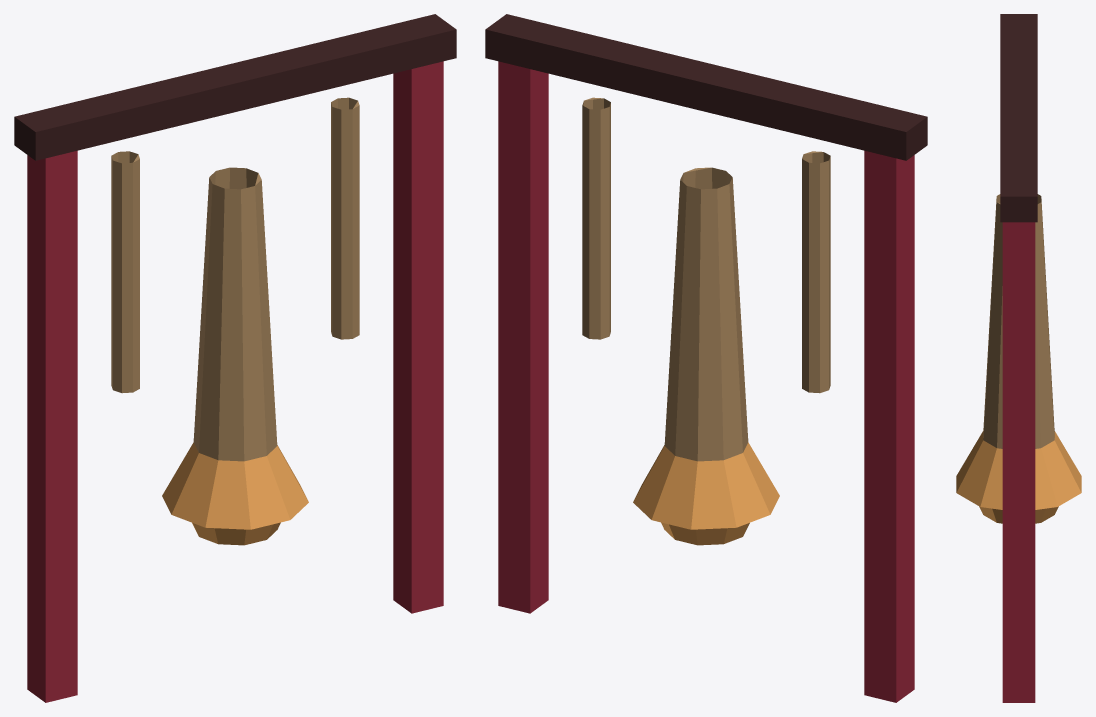
The model's file is shrine_rope_bell.obj.
3 views of the same model, side by side, from view 1: azimuth 30°, elevation 25°; view 2: azimuth 150°, elevation 25°; view 3: azimuth 270°, elevation 25° (orthographic). The views are drawn at different scales.
Parts seen in each view (by area): view 1: shrine_rope_bell; view 2: shrine_rope_bell; view 3: shrine_rope_bell.
Boxes of the visible parts, x1,y1,x2,y2 form: shrine_rope_bell: [14, 14, 456, 702]; shrine_rope_bell: [485, 14, 927, 702]; shrine_rope_bell: [956, 14, 1081, 702].
Size of the model in its own units: 4.6 by 6 by 1.33.
